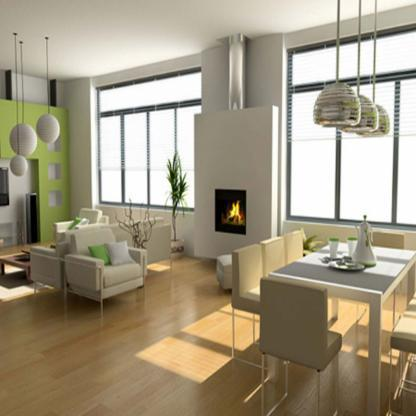bantal: (109, 241, 135, 266)
kursi: (256, 276, 339, 416), (66, 231, 154, 309)
